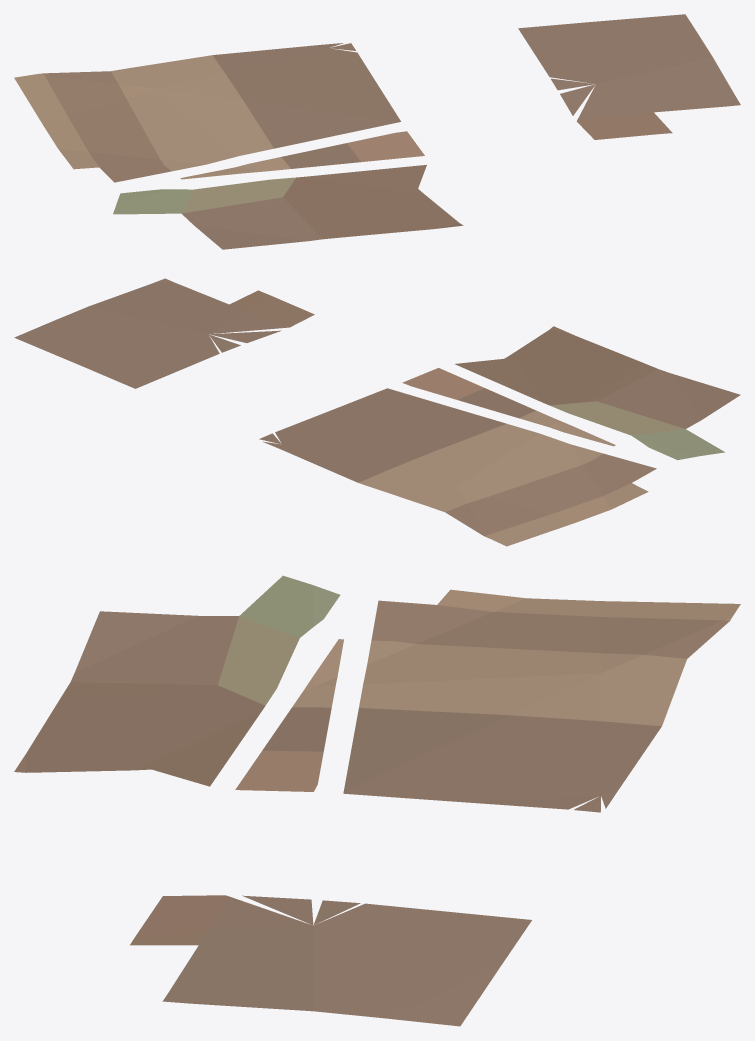
File: farm_7_23_soil.glb
3 views of the same model, one above another, from view 1: azimuth 30°, elevation 25°; view 2: azimuth 150°, elevation 25°; view 3: azimuth 270°, elevation 25° (orthographic). The views are drawn at different scales.
Parts seen in each view (by area): view 1: geometry_0; view 2: geometry_0; view 3: geometry_0.
Boxes of the visible parts, box(x1,y1,x2,y2) form: geometry_0: box(14, 14, 740, 249); geometry_0: box(14, 278, 740, 546); geometry_0: box(14, 575, 740, 1026).
Size of the model in its own units: 298 by 7.8 by 202.
